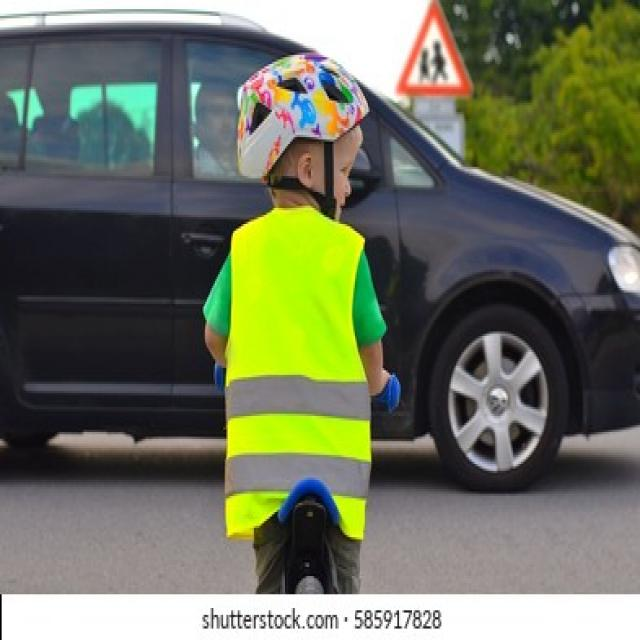Reflective-Jacket: (217, 210, 376, 546)
Safety-Helmet: (230, 46, 368, 185)
